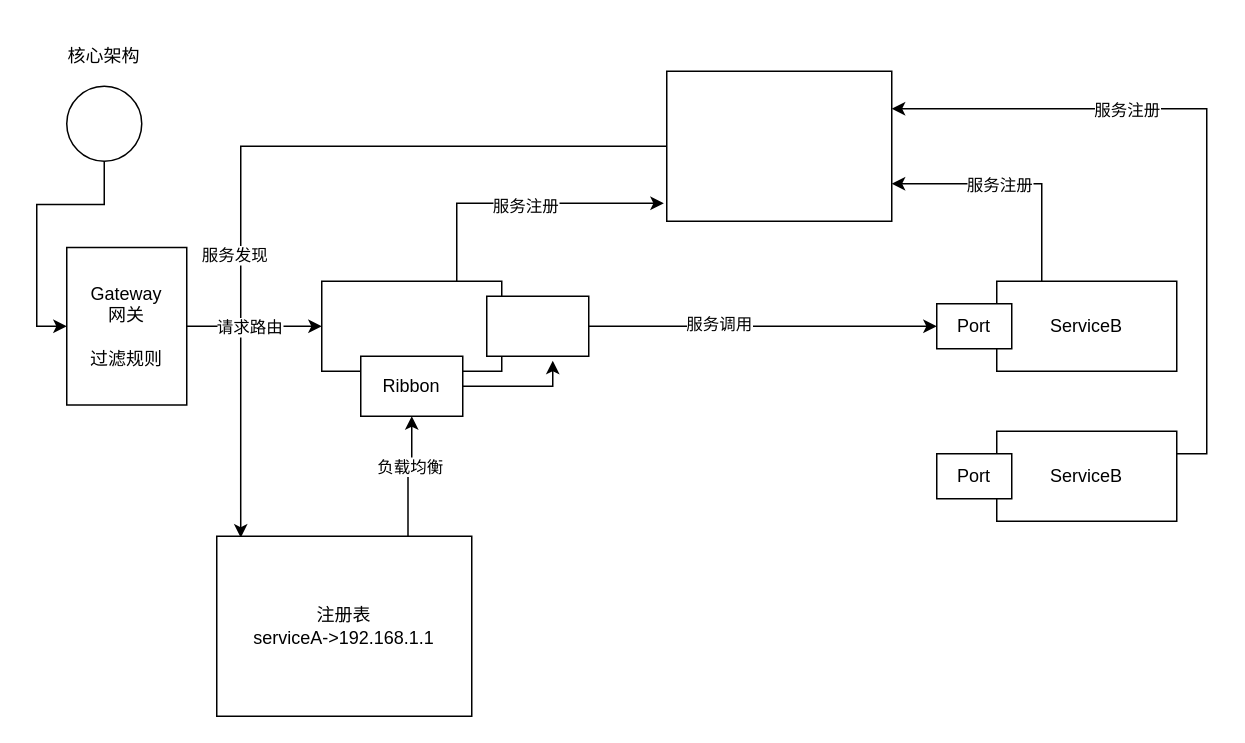
The diagram is 1245 pixels wide and 743 high, and some of its shapes have lost their labels. Here are the shapes that lost their labels. From the top down, the centre of each, then its label:
At pixel 103 123: "Client".
At pixel 778 145: "Eurake 注册中心 serviceA->192.168.1.1 serviceB->192.168.1.2".
At pixel 411 325: "ServiceA".
At pixel 537 325: "Feign".
